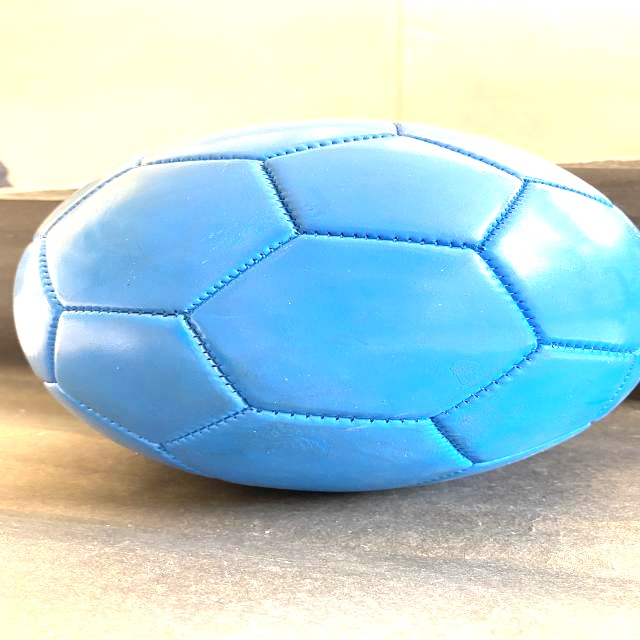blue_ball: (0, 117, 632, 490)
